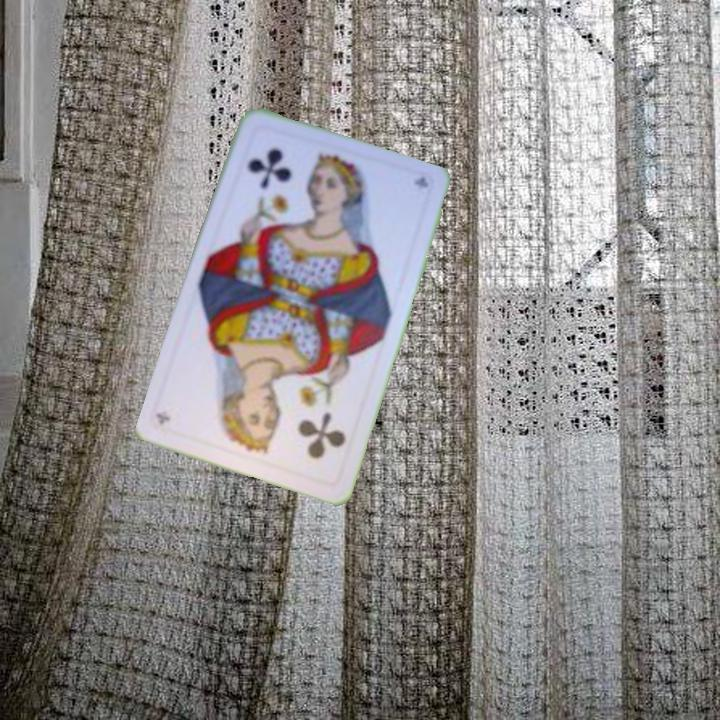c_q.png: (226, 122, 346, 233), (242, 376, 362, 487)
